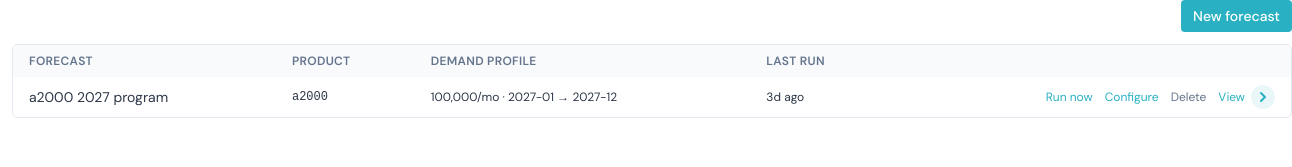
Test: <ForecastList> › surfaces the server message when a run cannot be started
Expected: the text "a2000 2027 program" is shown, [13,77,276,117]
Click the button "Run now".
click(1069, 97)  # box [1046,89,1093,105]
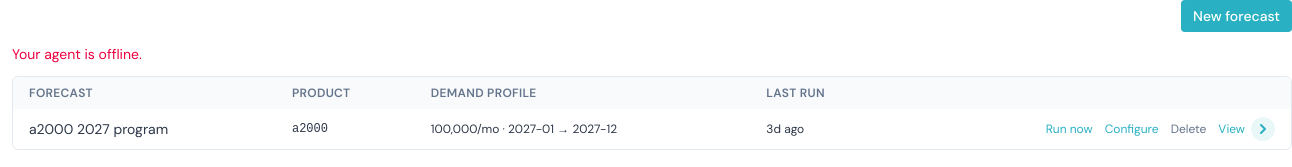
Expected: the message reads "Your agent is offline.", [12,45,142,63]
